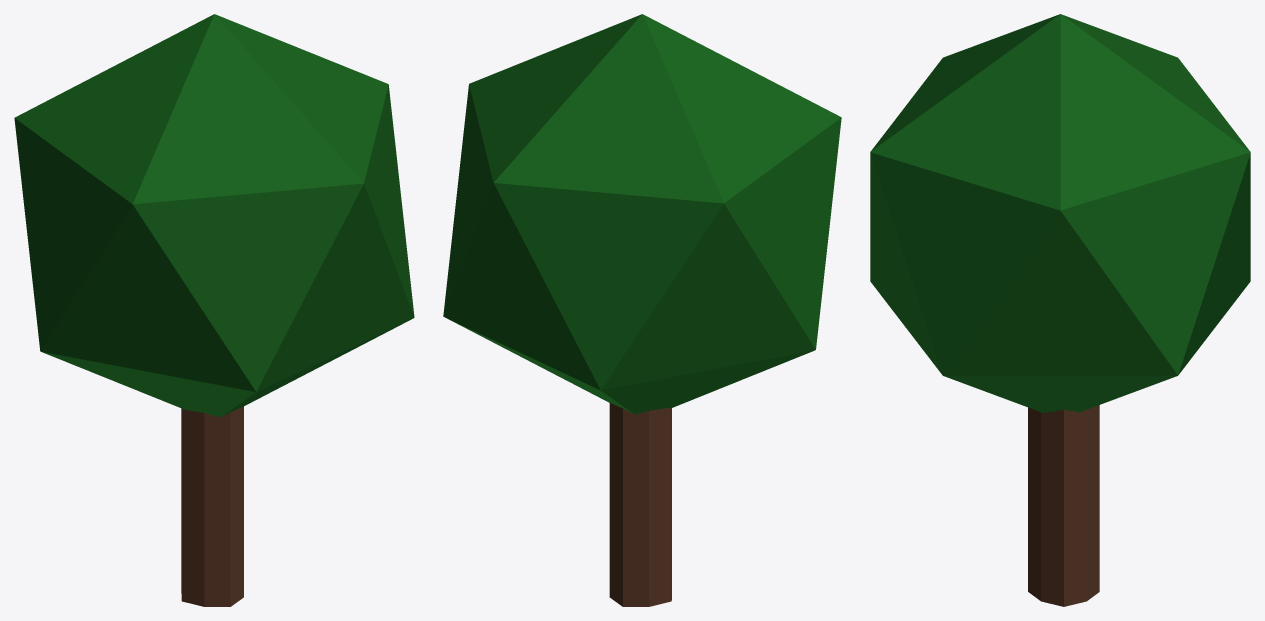
The model's file is tree.gltf.
3 renders of one model, left to right at view 1: azimuth 30°, elevation 25°; view 2: azimuth 150°, elevation 25°; view 3: azimuth 270°, elevation 25°, orthographic.
Visible parts, largest first — view 1: tree_2; view 2: tree_2; view 3: tree_2.
Boxes of the visible parts, x1,y1,x2,y2 form: tree_2: (14,14,414,606); tree_2: (443,14,841,606); tree_2: (870,14,1250,606).
Size of the model in its own units: 1.06 by 1.69 by 1.01.
